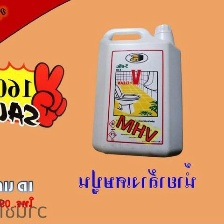cleaning_solution: (87, 21, 187, 161)
